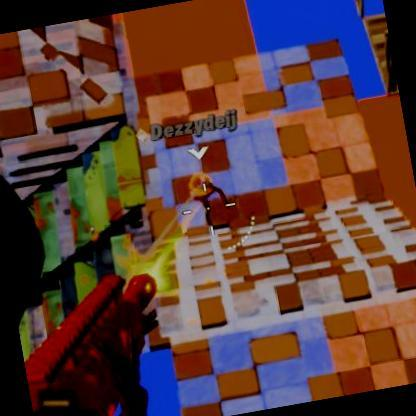person: (186, 170, 238, 235)
